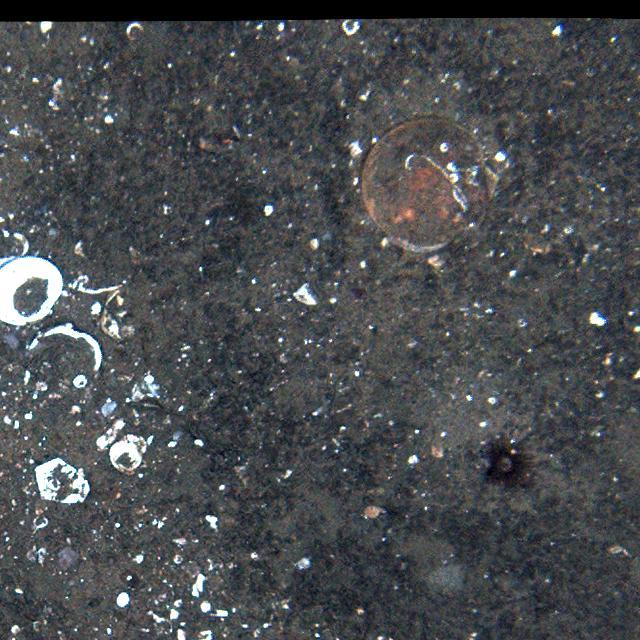scallop: (358, 111, 492, 256)
